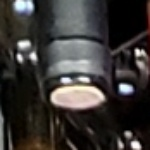bottle: (33, 52, 128, 125)
